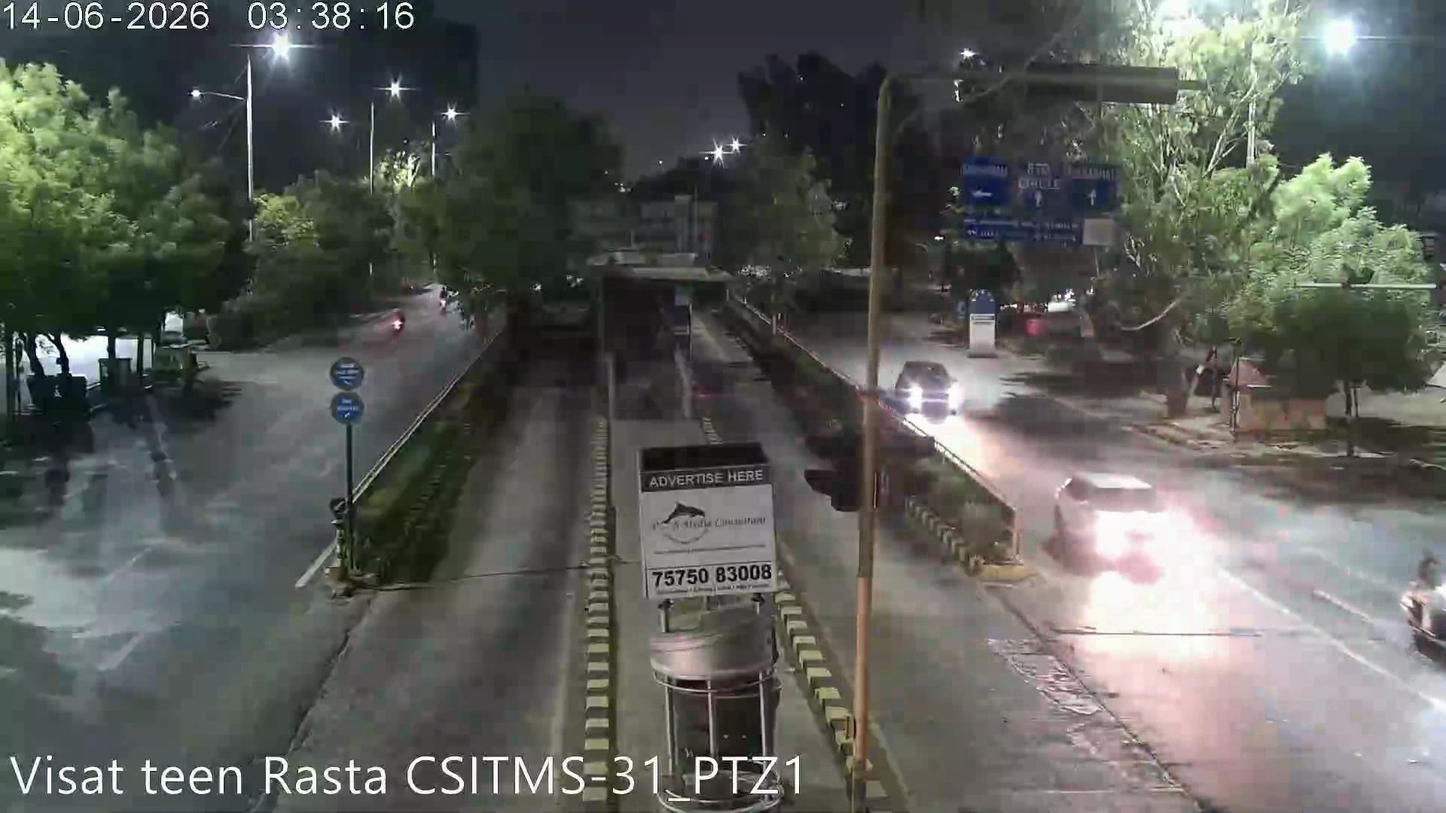auto_rickshaw: (143, 339, 206, 397)
car: (1046, 464, 1191, 567), (885, 356, 965, 418)
two_wheeler: (1397, 543, 1446, 679), (386, 304, 409, 341)
